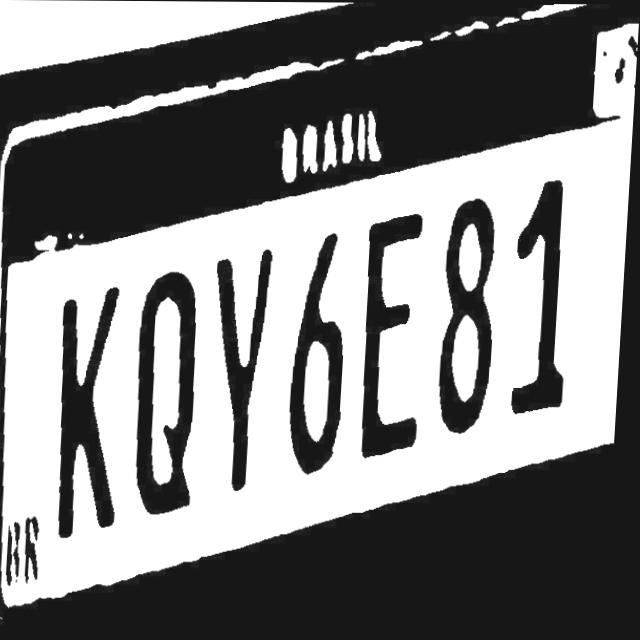1: (503, 171, 586, 422)
6: (283, 225, 357, 487)
8: (434, 187, 505, 441)
e: (352, 208, 436, 462)
k: (51, 270, 136, 550)
q: (130, 256, 213, 524)
y: (206, 243, 280, 503)
